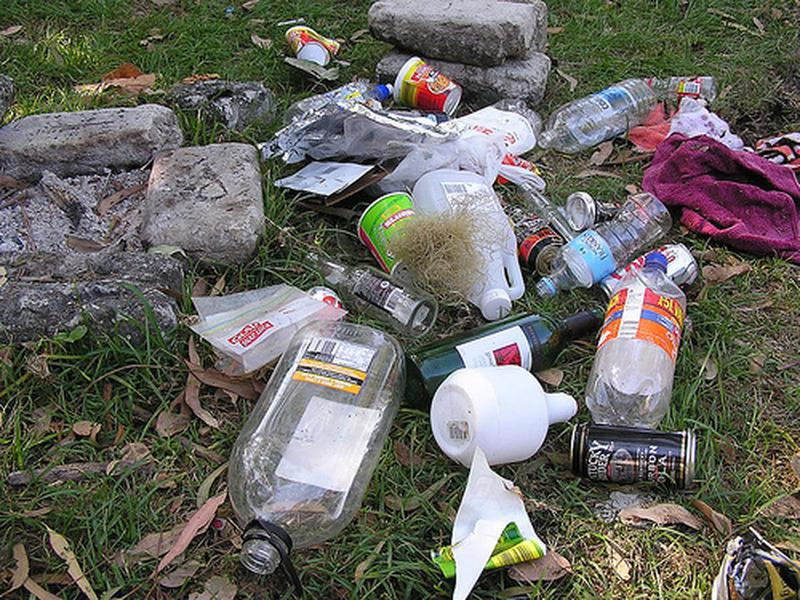bottle: (189, 316, 407, 573), (583, 246, 689, 429), (409, 302, 605, 394), (429, 364, 577, 474), (532, 192, 675, 301), (299, 247, 438, 336), (540, 76, 660, 154)
can: (564, 413, 704, 493)
cup: (387, 53, 467, 119), (281, 18, 342, 73)
leaf: (614, 501, 706, 536)
paper: (427, 450, 553, 600)
plastic: (187, 272, 347, 370), (363, 131, 550, 189)
